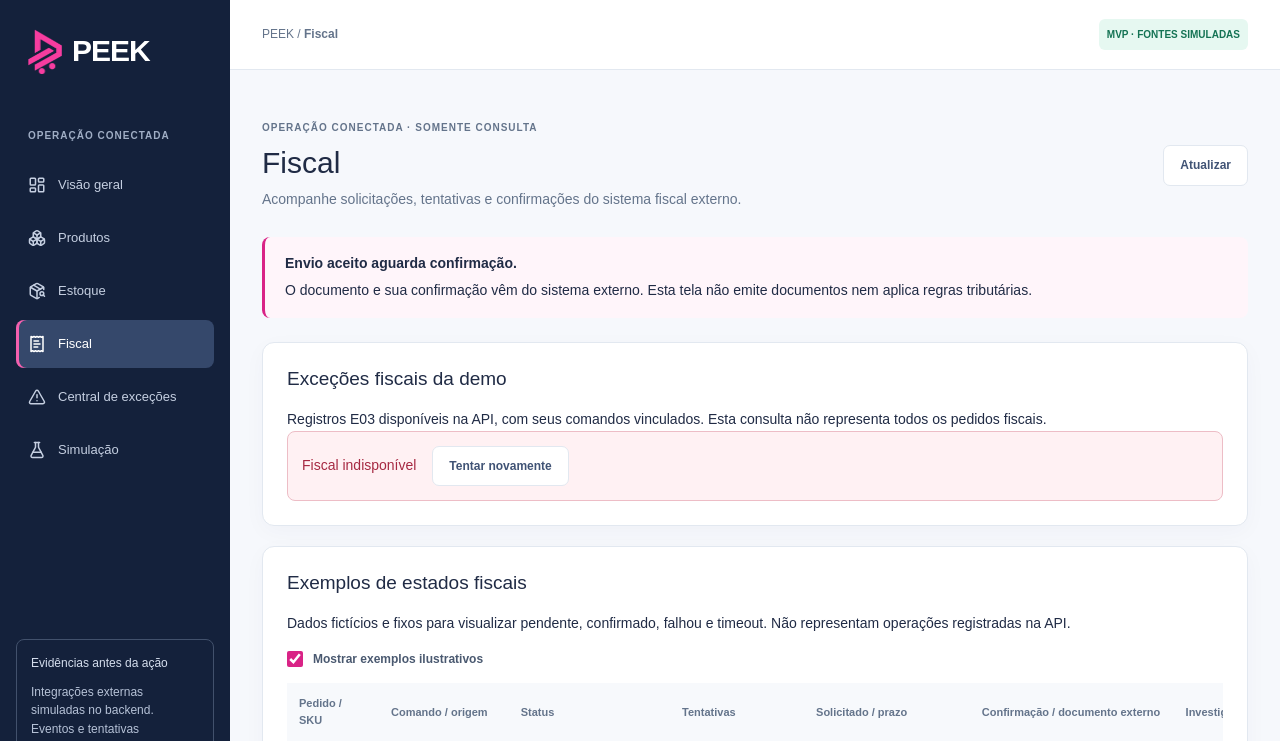
Test: Read-only fiscal mock › retains fixtures during API failure and recovers with retry
Check: the message shows "Fiscal indisponível", box [302,456,416,472]
Click the button "Tentar novamente" at (501, 466), box [432,446,569,486]
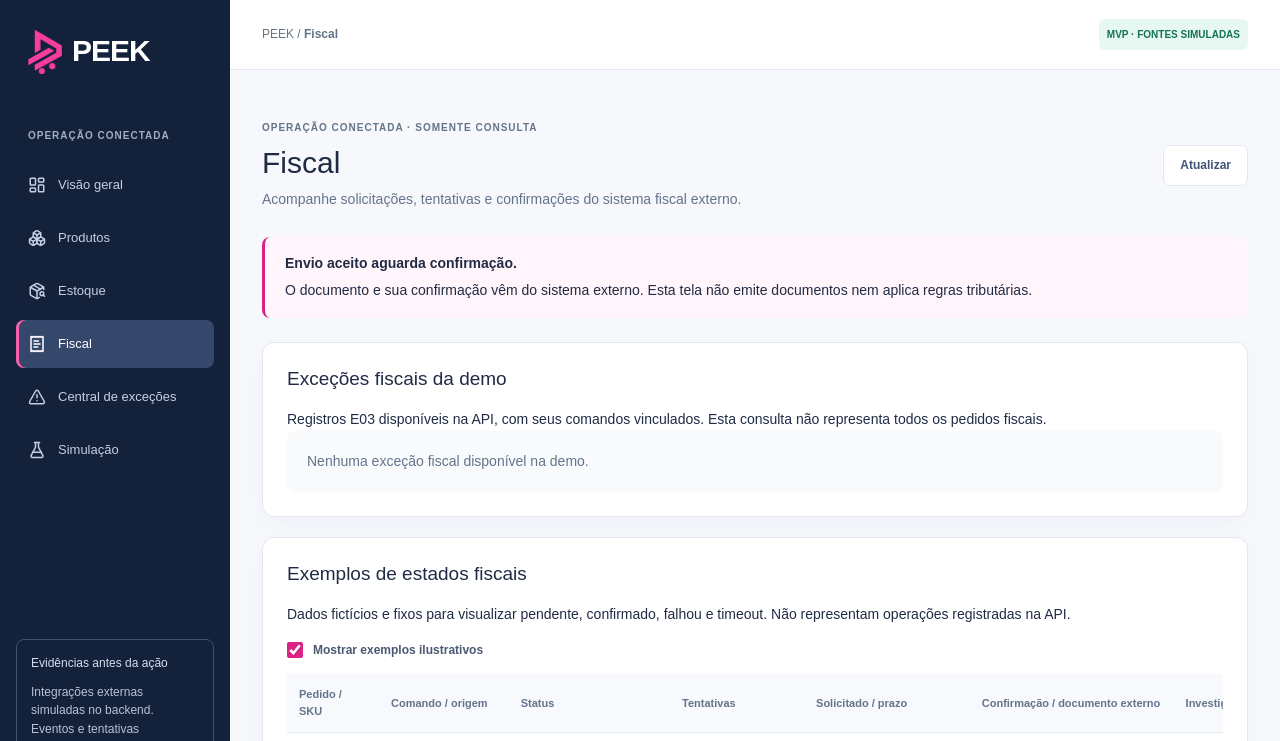
Check: the text "Nenhuma exceção fiscal disponível na demo." is shown, box [287,430,1223,492]
